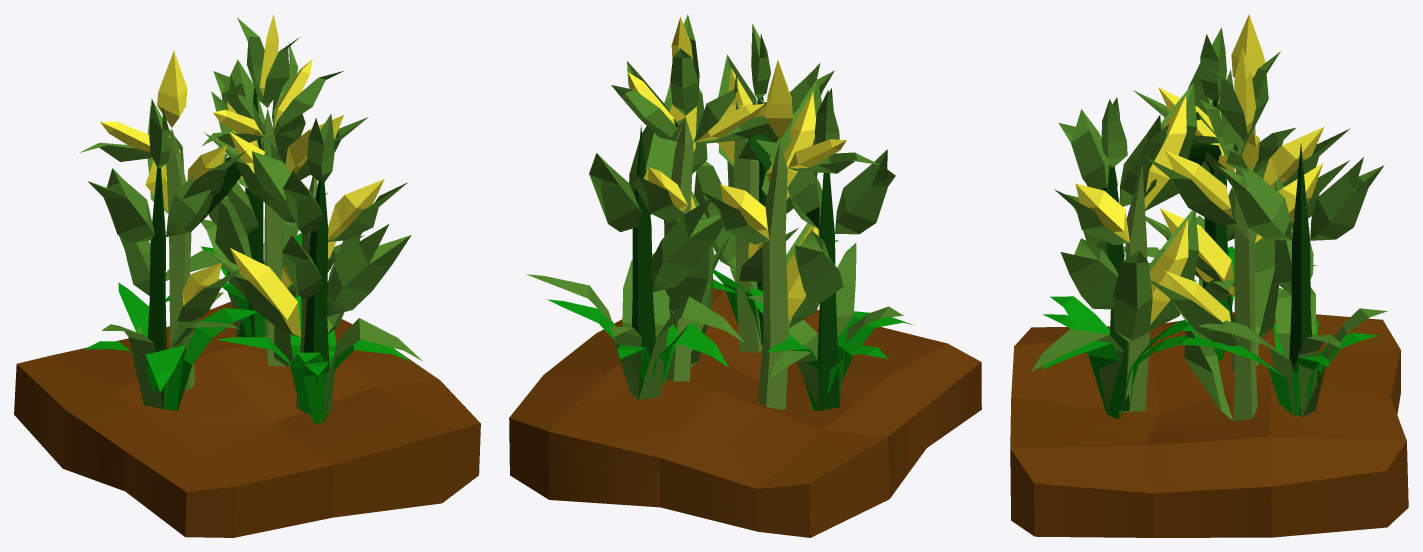
Rendered from corns-field.glb.
3 views of the same model, side by side, from view 1: azimuth 30°, elevation 25°; view 2: azimuth 150°, elevation 25°; view 3: azimuth 270°, elevation 25° (orthographic). The views are drawn at different scales.
Visible parts, largest first — view 1: ground6, corn_2, corn_3, corn_1; view 2: ground6, corn_3, corn_2, corn_1; view 3: ground6, corn_3, corn_2, corn_1.
Part boxes in pixels (box(x1,y1,x2,y2)): ground6: box(14, 301, 480, 537); corn_2: box(87, 59, 422, 415); corn_3: box(79, 14, 407, 414); corn_1: box(84, 232, 410, 423); ground6: box(509, 288, 981, 537); corn_3: box(611, 14, 879, 409); corn_2: box(526, 24, 903, 410); corn_1: box(547, 279, 914, 410); ground6: box(1010, 312, 1408, 537); corn_3: box(1054, 14, 1350, 420); corn_2: box(1031, 27, 1387, 417); corn_1: box(1041, 246, 1379, 419).
Bounding box in the file's own units: 3.29 × 4.04 × 3.29.
